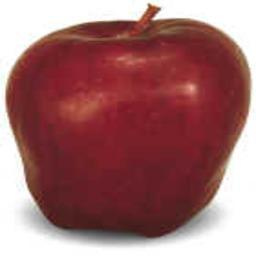apple: (1, 12, 250, 238)
